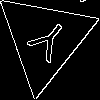Y: (20, 14, 72, 71)
